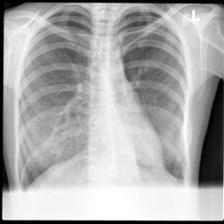tuberculosis: (10, 4, 190, 190)
